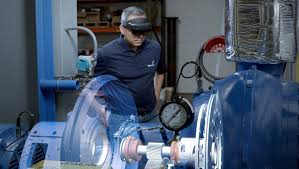hololens: (119, 17, 152, 36)
